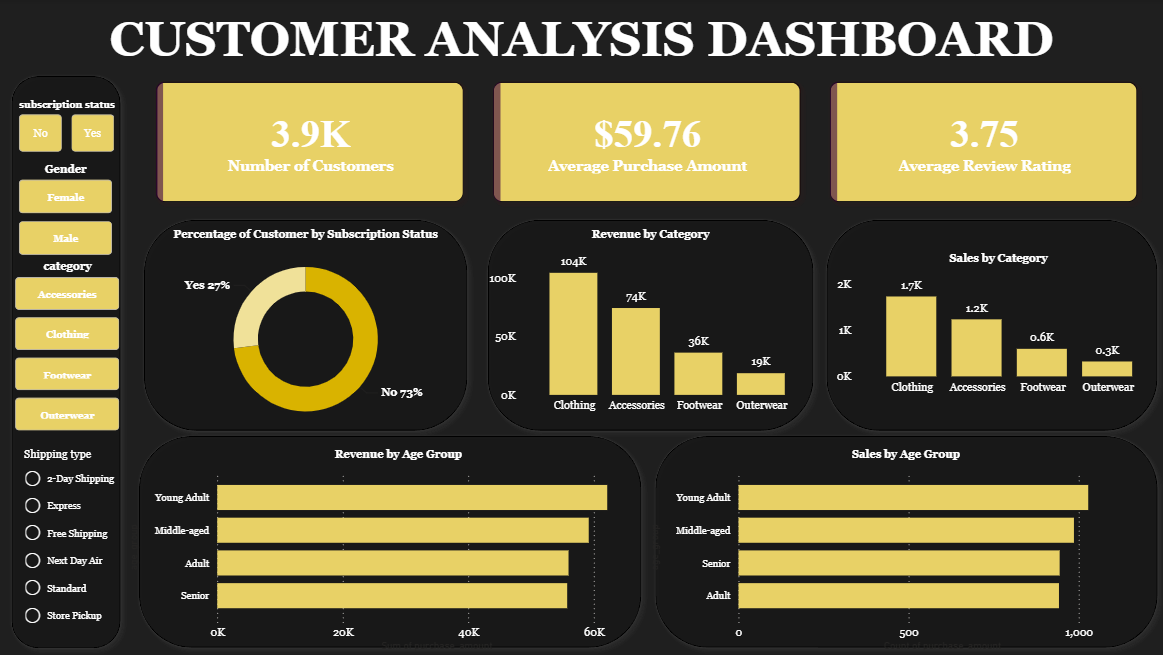

This screenshot's page, from the dashboard's own definition file:
{"tool":"powerbi","page":{"name":"Page 1","canvas":[1280,720],"ordinal":0},"visuals":[{"type":"shape","box":[528.1,232.3,375,249.1],"z":0},{"type":"cardVisual","fields":{"Data":["public customer.Number of Customers","public customer.Average Purchase Amount","public customer.Average Review Rating"]},"box":[145.5,61.6,1134.8,190.3],"z":1000},{"type":"textbox","title":"CUSTOMER ANALYSIS DASHBOARD","box":[0,13.7,1280.3,61.7],"z":2000},{"type":"shape","box":[152.5,232.3,372.2,249.1],"z":3000},{"type":"clusteredColumnChart","title":"Revenue by Category","fields":{"Y":["Sum(public customer.purchase_amount)"],"Category":["public customer.category"]},"box":[533.8,250.5,363.8,211.3],"z":4000},{"type":"donutChart","title":"Percentage of Customer by Subscription Status","fields":{"Category":["public customer.subscription_status"],"Y":["CountNonNull(public customer.customer_id)"]},"box":[145.5,250.5,386.2,230.9],"z":5000},{"type":"shape","box":[899.4,232.3,380.6,249.1],"z":6000},{"type":"clusteredColumnChart","title":"Sales by Category","fields":{"Y":["CountNonNull(public customer.customer_id)"],"Category":["public customer.category"]},"box":[915,276.7,365,165],"z":7000},{"type":"shape","box":[7.5,75,137.5,645],"z":8000},{"type":"advancedSlicerVisual","title":"subscription status","fields":{"Values":["public customer.subscription_status"]},"box":[18.9,108.9,115.6,63.3],"z":9000},{"type":"advancedSlicerVisual","fields":{"Values":["public customer.gender"]},"box":[18.9,178.9,112.2,106.7],"z":10000},{"type":"advancedSlicerVisual","fields":{"Values":["public customer.category"]},"box":[14.4,286.7,124.4,194.4],"z":11000},{"type":"listSlicer","title":"Shipping type","fields":{"Values":["public customer.shipping_type"]},"box":[24.4,492.2,127.8,204.4],"z":12000},{"type":"shape","box":[146.7,470,568.3,250],"z":13000},{"type":"clusteredBarChart","title":"Revenue by Age Group","fields":{"Y":["Sum(public customer.purchase_amount)"],"Category":["public customer.age_group"]},"box":[140,491.7,600,228.3],"z":14000},{"type":"shape","box":[711.7,470,568.3,250],"z":14001},{"type":"clusteredBarChart","title":"Sales by Age Group","fields":{"Y":["CountNonNull(public customer.purchase_amount)"],"Category":["public customer.age_group"]},"box":[710,491.7,570,228.3],"z":14002}]}

Visuals, with their boxes in screenshot pixels (x1, y1, x2, y2), scaled from the page's 1280x720 canvas onto the 1163x655 screenshot:
shape: <region>480, 211, 821, 438</region>
cardVisual - public customer.Number of Customers x public customer.Average Purchase Amount: <region>132, 56, 1162, 229</region>
"CUSTOMER ANALYSIS DASHBOARD" textbox: <region>0, 12, 1162, 69</region>
shape: <region>139, 211, 477, 438</region>
"Revenue by Category" clusteredColumnChart: <region>485, 228, 816, 420</region>
"Percentage of Customer by Subscription Status" donutChart: <region>132, 228, 483, 438</region>
shape: <region>817, 211, 1162, 438</region>
"Sales by Category" clusteredColumnChart: <region>831, 252, 1162, 402</region>
shape: <region>7, 68, 132, 654</region>
"subscription status" advancedSlicerVisual: <region>17, 99, 122, 157</region>
advancedSlicerVisual - public customer.gender: <region>17, 163, 119, 260</region>
advancedSlicerVisual - public customer.category: <region>13, 261, 126, 438</region>
"Shipping type" listSlicer: <region>22, 448, 138, 634</region>
shape: <region>133, 428, 650, 654</region>
"Revenue by Age Group" clusteredBarChart: <region>127, 447, 672, 654</region>
shape: <region>647, 428, 1162, 654</region>
"Sales by Age Group" clusteredBarChart: <region>645, 447, 1162, 654</region>
